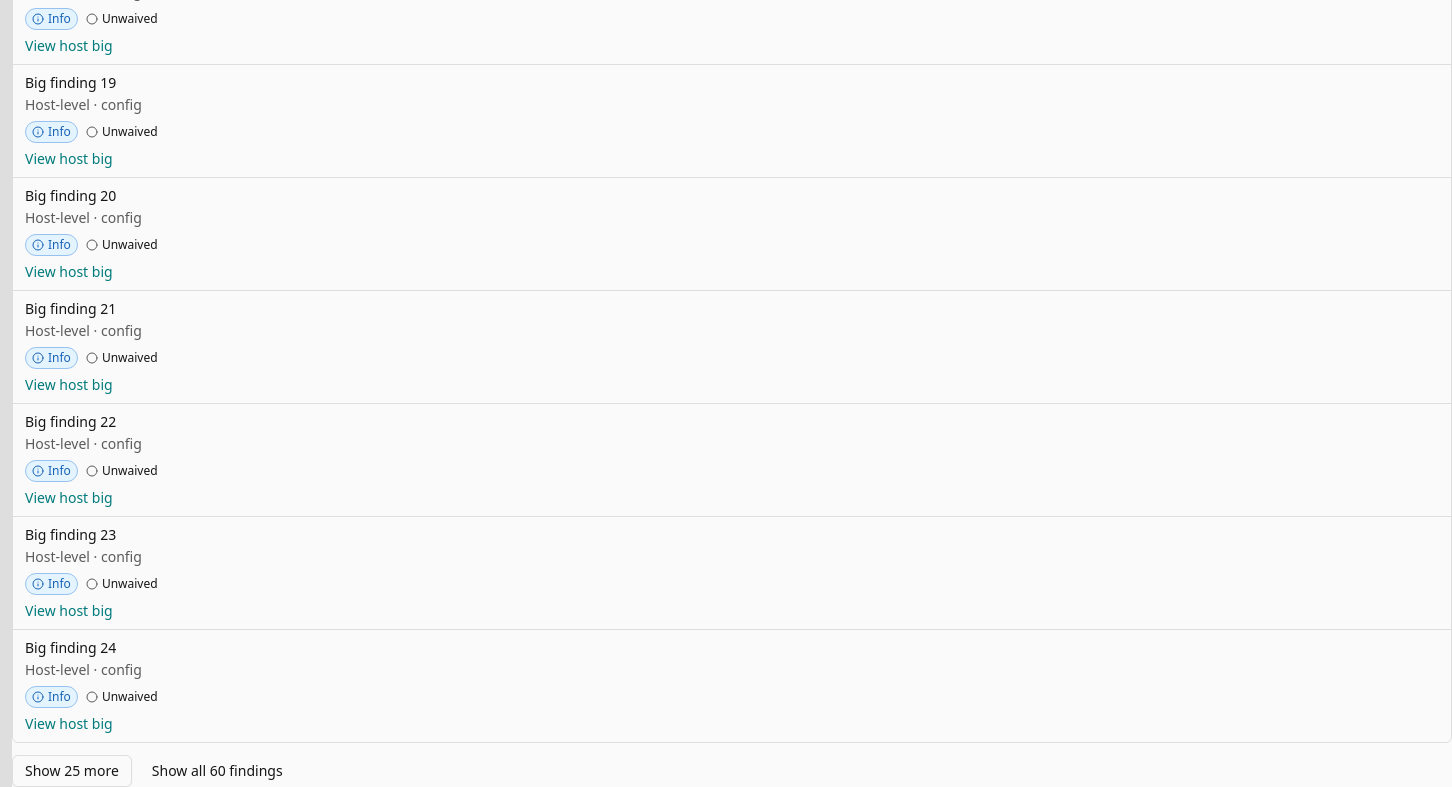
Test: progressive disclosure › reaches every row through repeated show-more batches
(page scrolled)
Click the button with aria-label "Show 25 more scoped findings" at (72, 771), box 12,755 -> 132,786
(page scrolled)
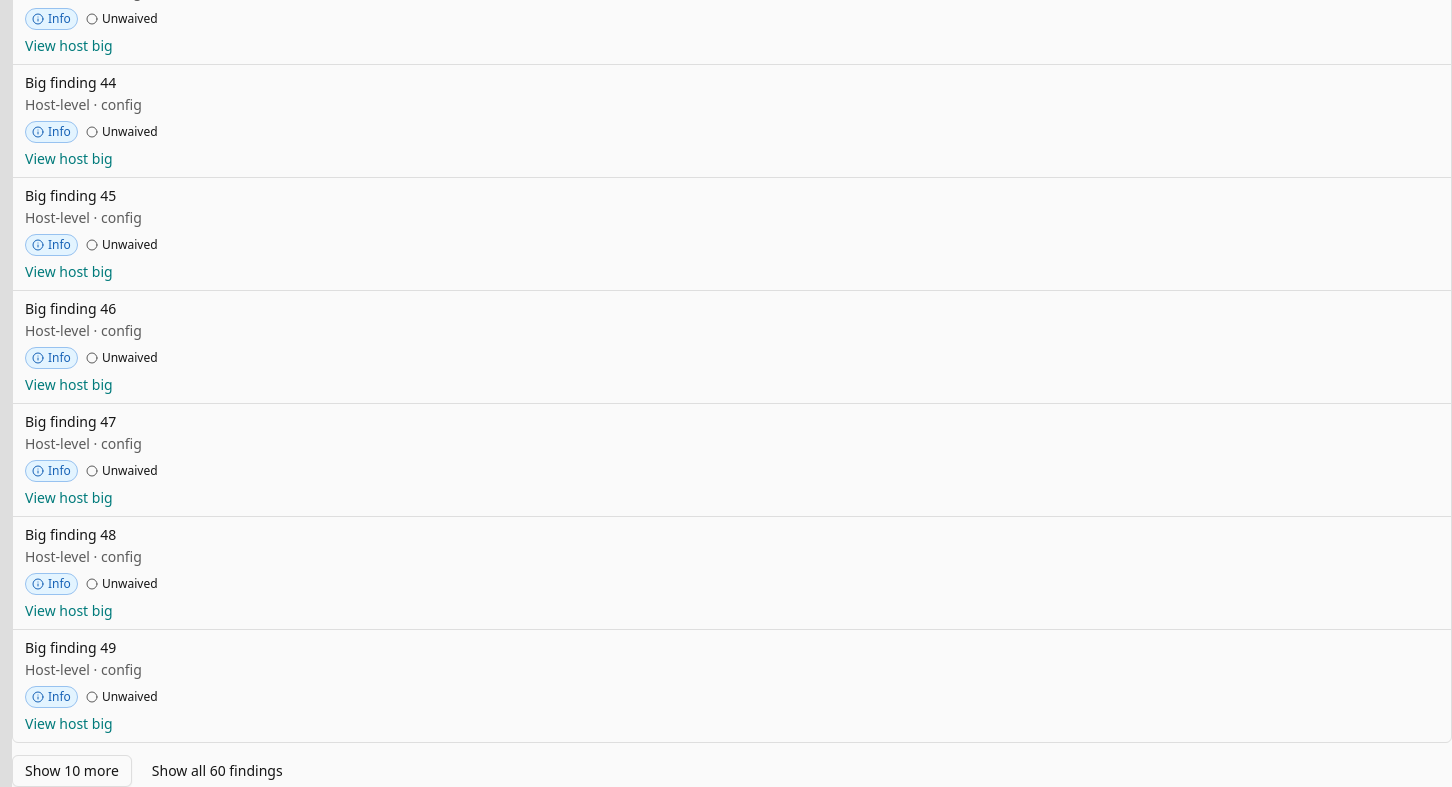
Click the button with aria-label "Show 10 more scoped findings" at (72, 771), box 12,755 -> 132,786
(page scrolled)
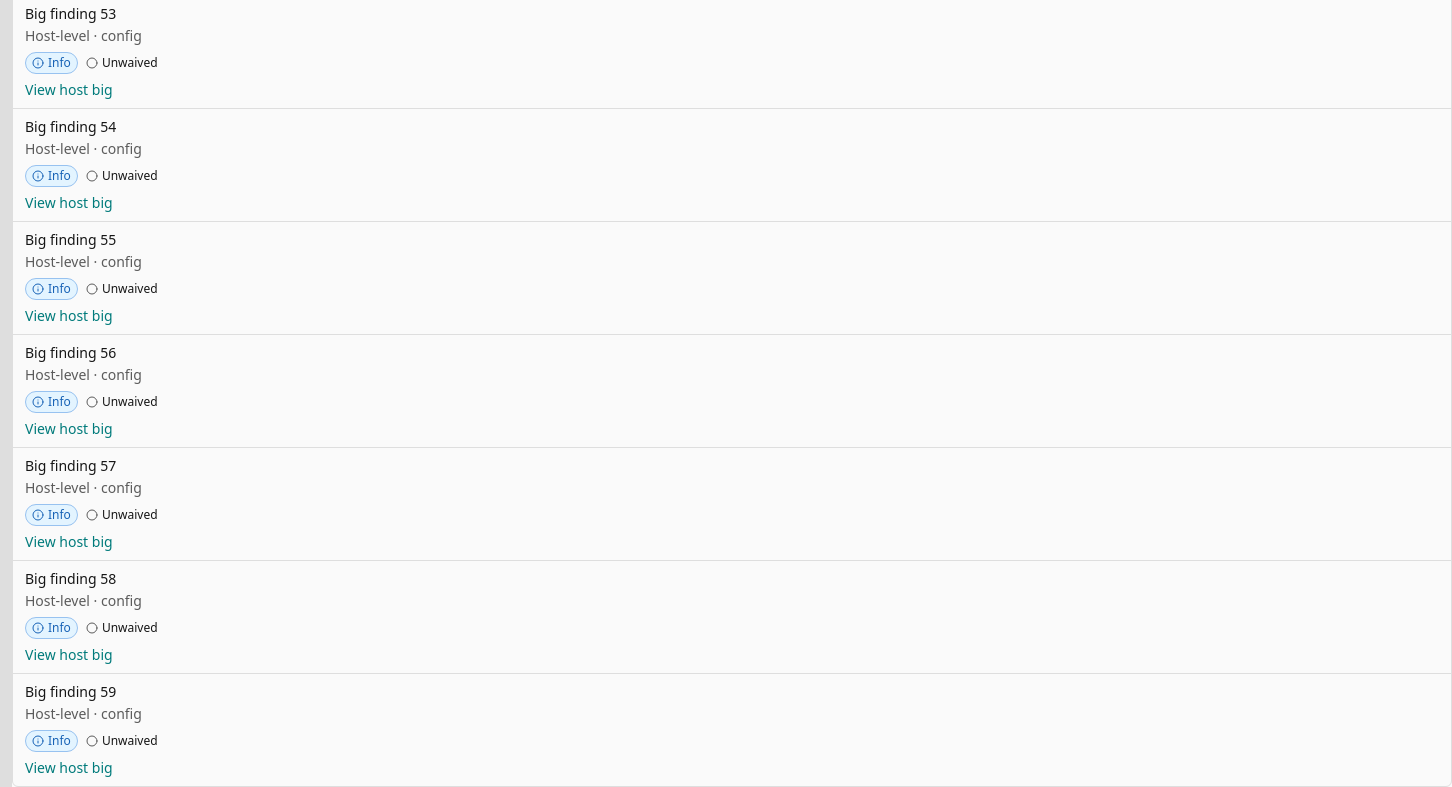
Check: the list item that starts with "Big finding 59" is shown, box 25,682 -> 158,777
